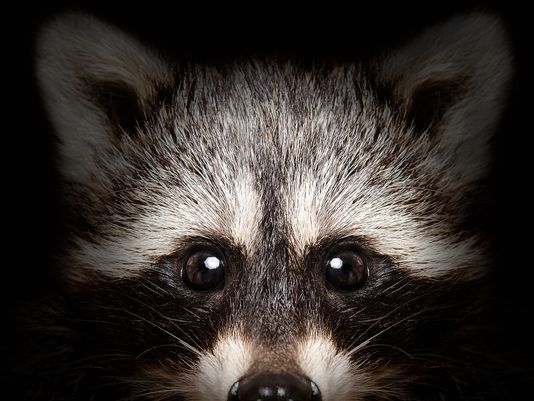raccoon: (26, 5, 511, 401)
